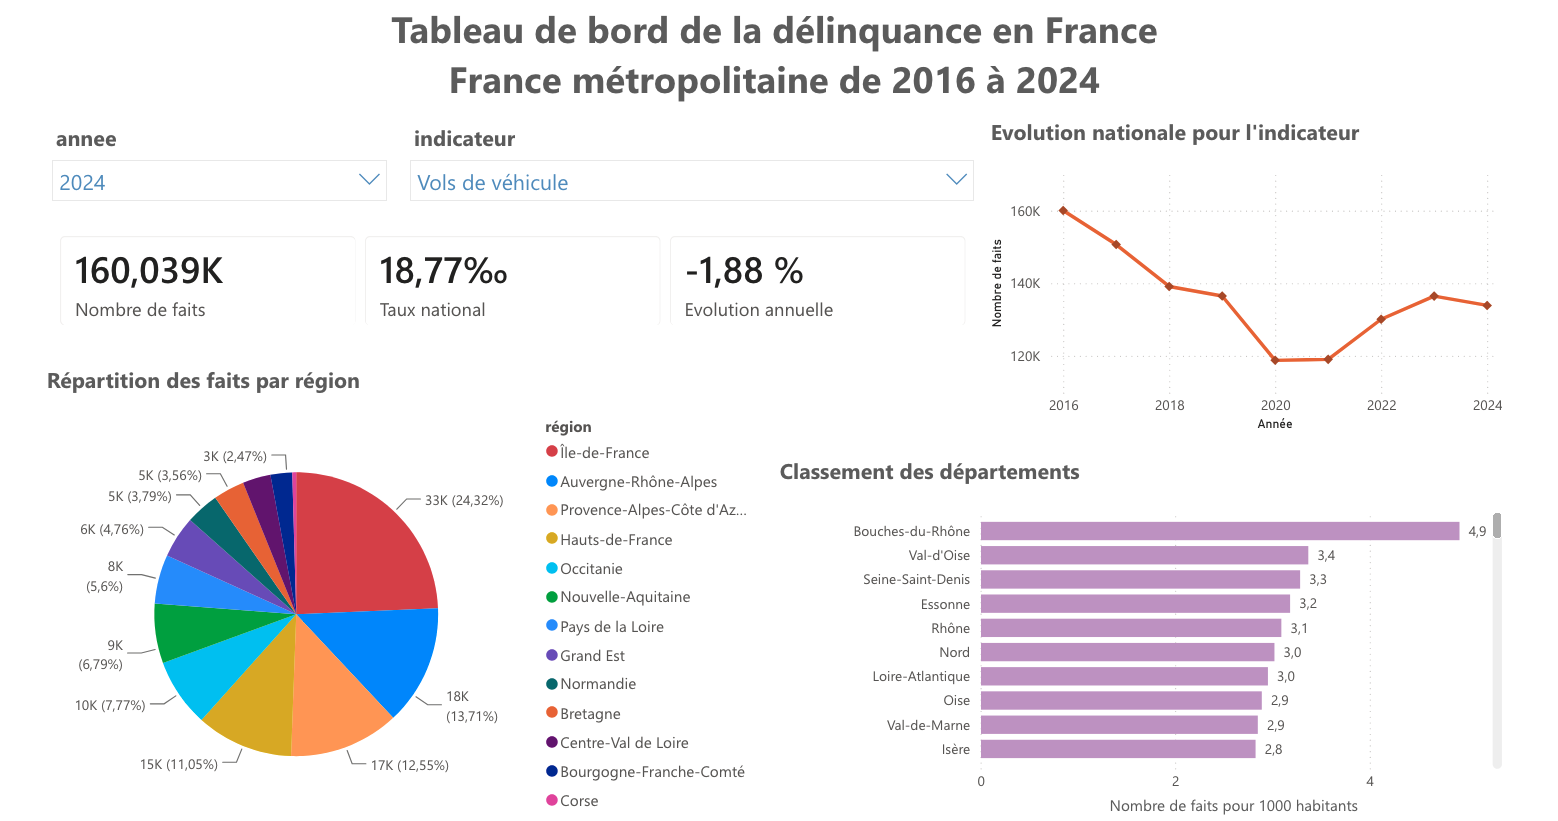

What the dashboard file says about the page in this screenshot:
{"tool":"powerbi","page":{"name":"Page 1","canvas":[1280,720],"ordinal":0},"visuals":[{"type":"slicer","fields":{"Values":["dim_temps.annee"]},"box":[0,104,312,96],"z":0},{"type":"slicer","fields":{"Values":["dim_indicateur.indicateur"]},"box":[312,104,512,96],"z":1000},{"type":"textbox","box":[0,0,1280,104],"z":2000},{"type":"cardVisual","title":"Nombre de faits","fields":{"Data":["Max(indicateurs_nationaux.nombre_faits_national)","Sum(indicateurs_nationaux.taux_national_pour_mille)","Sum(evolution_nationale.evolution_pct)"]},"box":[0,192,824,112],"z":3000},{"type":"lineChart","title":"Evolution nationale pour l''indicateur","fields":{"Category":["indicateurs_nationaux.annee"],"Y":["Sum(indicateurs_nationaux.nombre_faits_national)"]},"box":[824,104,456,280],"z":4000},{"type":"barChart","title":"Classement des départements","fields":{"Category":["classement_departements.nom_departement"],"Y":["Sum(classement_departements.taux_pour_mille)"]},"box":[640,400,640,320],"z":5000},{"type":"pieChart","fields":{"Category":["indicateurs_regionaux.nom_region"],"Y":["Sum(indicateurs_regionaux.nombre_faits_region)"]},"box":[0,320,632,400],"z":6000}]}

Visuals, with their boxes on the page's 1280x720 design canvas (x1, y1, x2, y2). These are canvas units, not pixel positions in the 1558x821 screenshot, which may show the page scaled, cropped or inside an application window:
slicer - dim_temps.annee: 0/104/312/200
slicer - dim_indicateur.indicateur: 312/104/824/200
textbox: 0/0/1280/104
"Nombre de faits" cardVisual: 0/192/824/304
"Evolution nationale pour l''indicateur" lineChart: 824/104/1280/384
"Classement des départements" barChart: 640/400/1280/720
pieChart - indicateurs_regionaux.nom_region x Sum(indicateurs_regionaux.nombre_faits_region): 0/320/632/720
